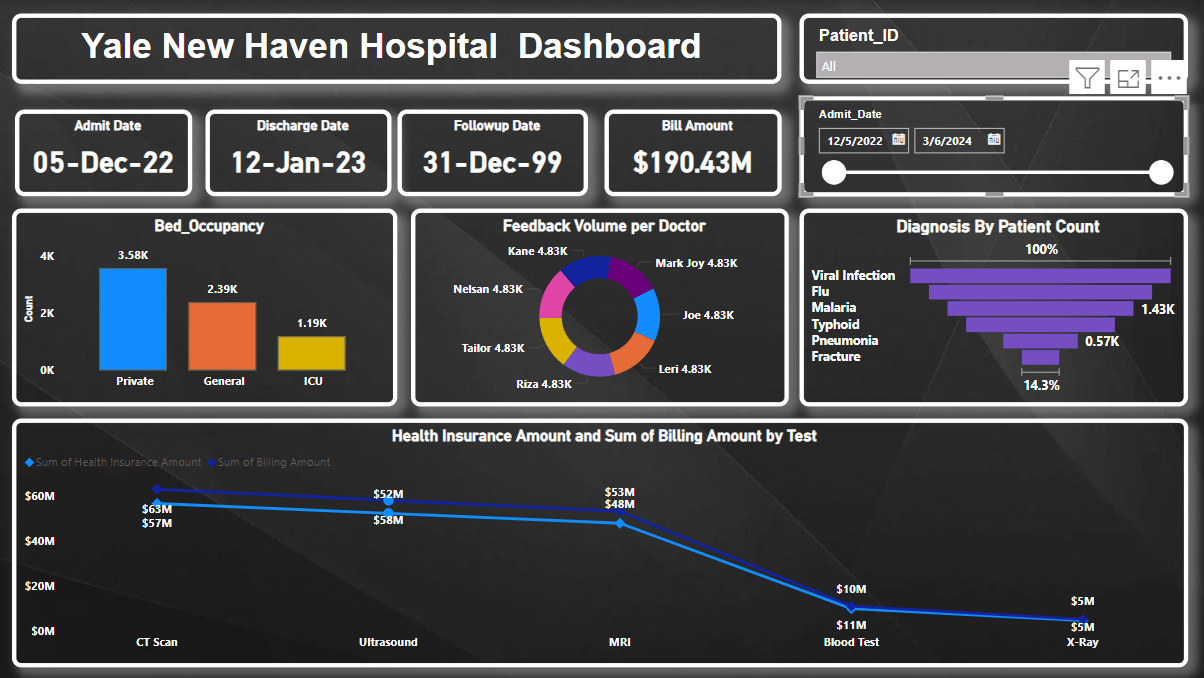

Layout of this report page (visuals, bound fields, positions):
{"tool":"powerbi","page":{"name":"Page 1","canvas":[1280,720],"ordinal":0},"visuals":[{"type":"slicer","fields":{"Values":["Sheet1.Patient_ID"]},"box":[847.8,14.3,412,74.8],"z":0},{"type":"textbox","box":[12.7,14.3,816,74.8],"z":1000},{"type":"columnChart","title":"Bed_Occupancy","fields":{"Category":["Sheet1.Bed_Occupancy"],"Y":["CountNonNull(Sheet1.Diagnosis)"]},"box":[12.7,221.1,408.8,210],"z":2000},{"type":"donutChart","title":"Feedback Volume per Doctor","fields":{"Category":["Sheet1.Doctor"],"Y":["Sum(Sheet1.Feedback)"]},"box":[435.8,221.1,400.8,210],"z":3000},{"type":"funnel","title":" Diagnosis By Patient Count","fields":{"Category":["Sheet1.Diagnosis"],"Y":["CountNonNull(Sheet1.Test)"]},"box":[847.8,221.1,412,210],"z":4000},{"type":"card","title":"Admit Date","fields":{"Values":["Min(Sheet1.Admit_Date)"]},"box":[15.9,116.1,187.7,92.3],"z":5000},{"type":"card","title":"Discharge Date","fields":{"Values":["Min(Sheet1.Discharge_Date)"]},"box":[217.9,116.1,197.2,92.3],"z":6000},{"type":"card","title":"Followup Date","fields":{"Values":["Min(Sheet1.Followup Date)"]},"box":[421.5,116.1,202,92.3],"z":7000},{"type":"card","title":"Bill Amount","fields":{"Values":["Sum(Sheet1.Billing Amount)"]},"box":[641,116.1,187.7,92.3],"z":8000},{"type":"slicer","fields":{"Values":["Sheet1.Admit_Date"]},"box":[847.8,101.8,412,106.6],"z":9000},{"type":"lineChart","title":"Health Insurance Amount and Sum of Billing Amount by Test","fields":{"Y":["Sum(Sheet1.Health Insurance Amount)","Sum(Sheet1.Billing Amount)"],"Category":["Sheet1.Test"]},"box":[12.7,443.8,1247,264],"z":10000}]}

Visuals, with their boxes in screenshot pixels (x1, y1, x2, y2), scaled from the page's 1280x720 canvas onto the 1204x678 screenshot:
slicer - Sheet1.Patient_ID: 797,13,1185,84
textbox: 12,13,779,84
"Bed_Occupancy" columnChart: 12,208,396,406
"Feedback Volume per Doctor" donutChart: 410,208,787,406
" Diagnosis By Patient Count" funnel: 797,208,1185,406
"Admit Date" card: 15,109,192,196
"Discharge Date" card: 205,109,390,196
"Followup Date" card: 396,109,586,196
"Bill Amount" card: 603,109,779,196
slicer - Sheet1.Admit_Date: 797,96,1185,196
"Health Insurance Amount and Sum of Billing Amount by Test" lineChart: 12,418,1185,667
